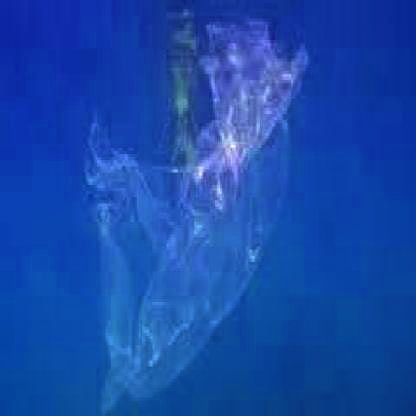pbag: (81, 15, 310, 416)
